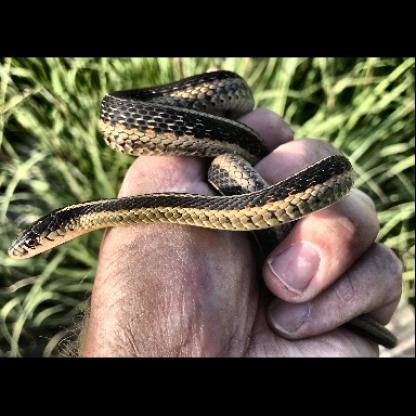Snake: (8, 79, 358, 263)
